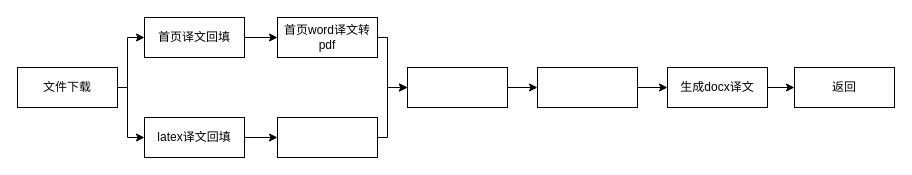
Some shapes in this 912 by 175 pixel diagram are drawn without their labels. The box of each missing label's shape, as (x1, y1, x2, y2) in pixels:
latex译文编译: (276, 116, 378, 158)
切分生成预览文件: (536, 66, 638, 108)
合并生成PDF译文: (406, 66, 508, 108)
